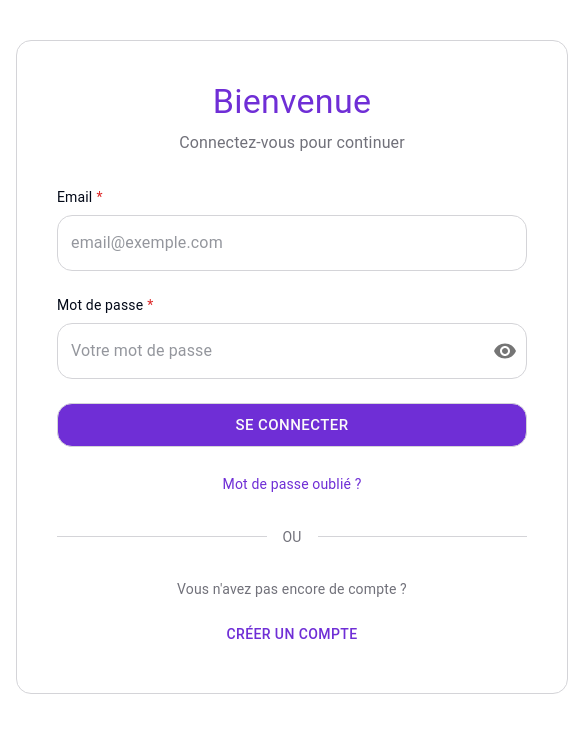
it: LoginPage › Authentication Logic › should display an error message if login fails
In the field with placeholder "email@exemple.com": x=292, y=243 [57,215,527,271], type "test@example.com"
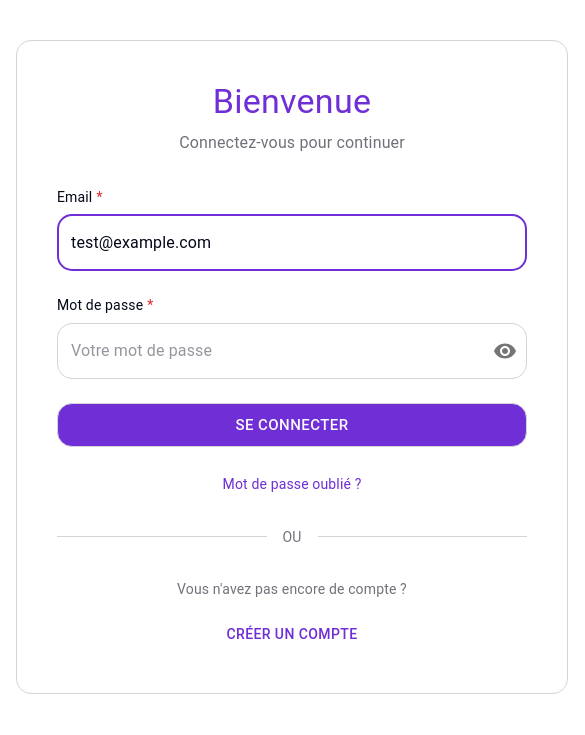
In the password field with placeholder "Votre mot de passe": x=267, y=351 [57,323,477,379], type "wrong-password"
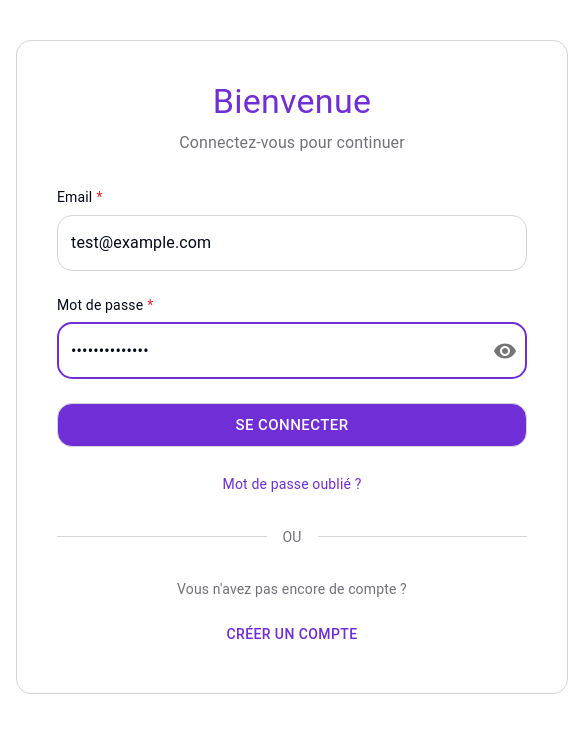
Click the button "Se connecter": x=292, y=425 [57,403,527,447]
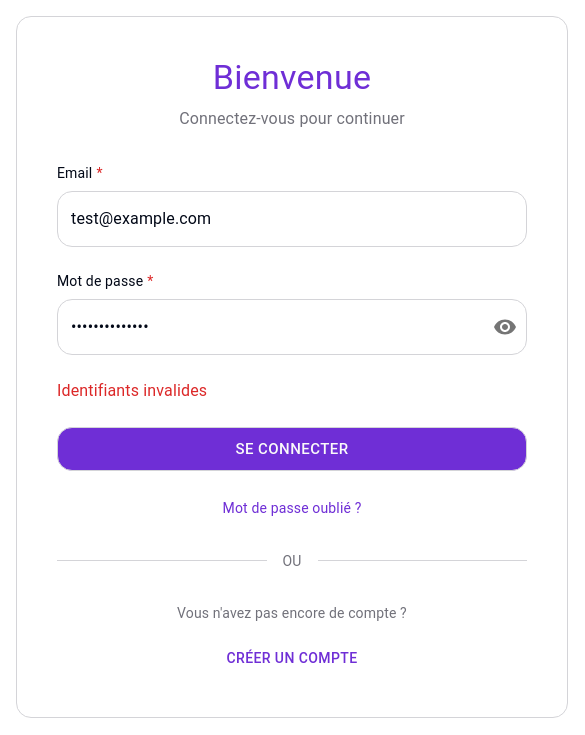
expect the text "Identifiants invalides" is shown: met, box [57,381,207,400]
